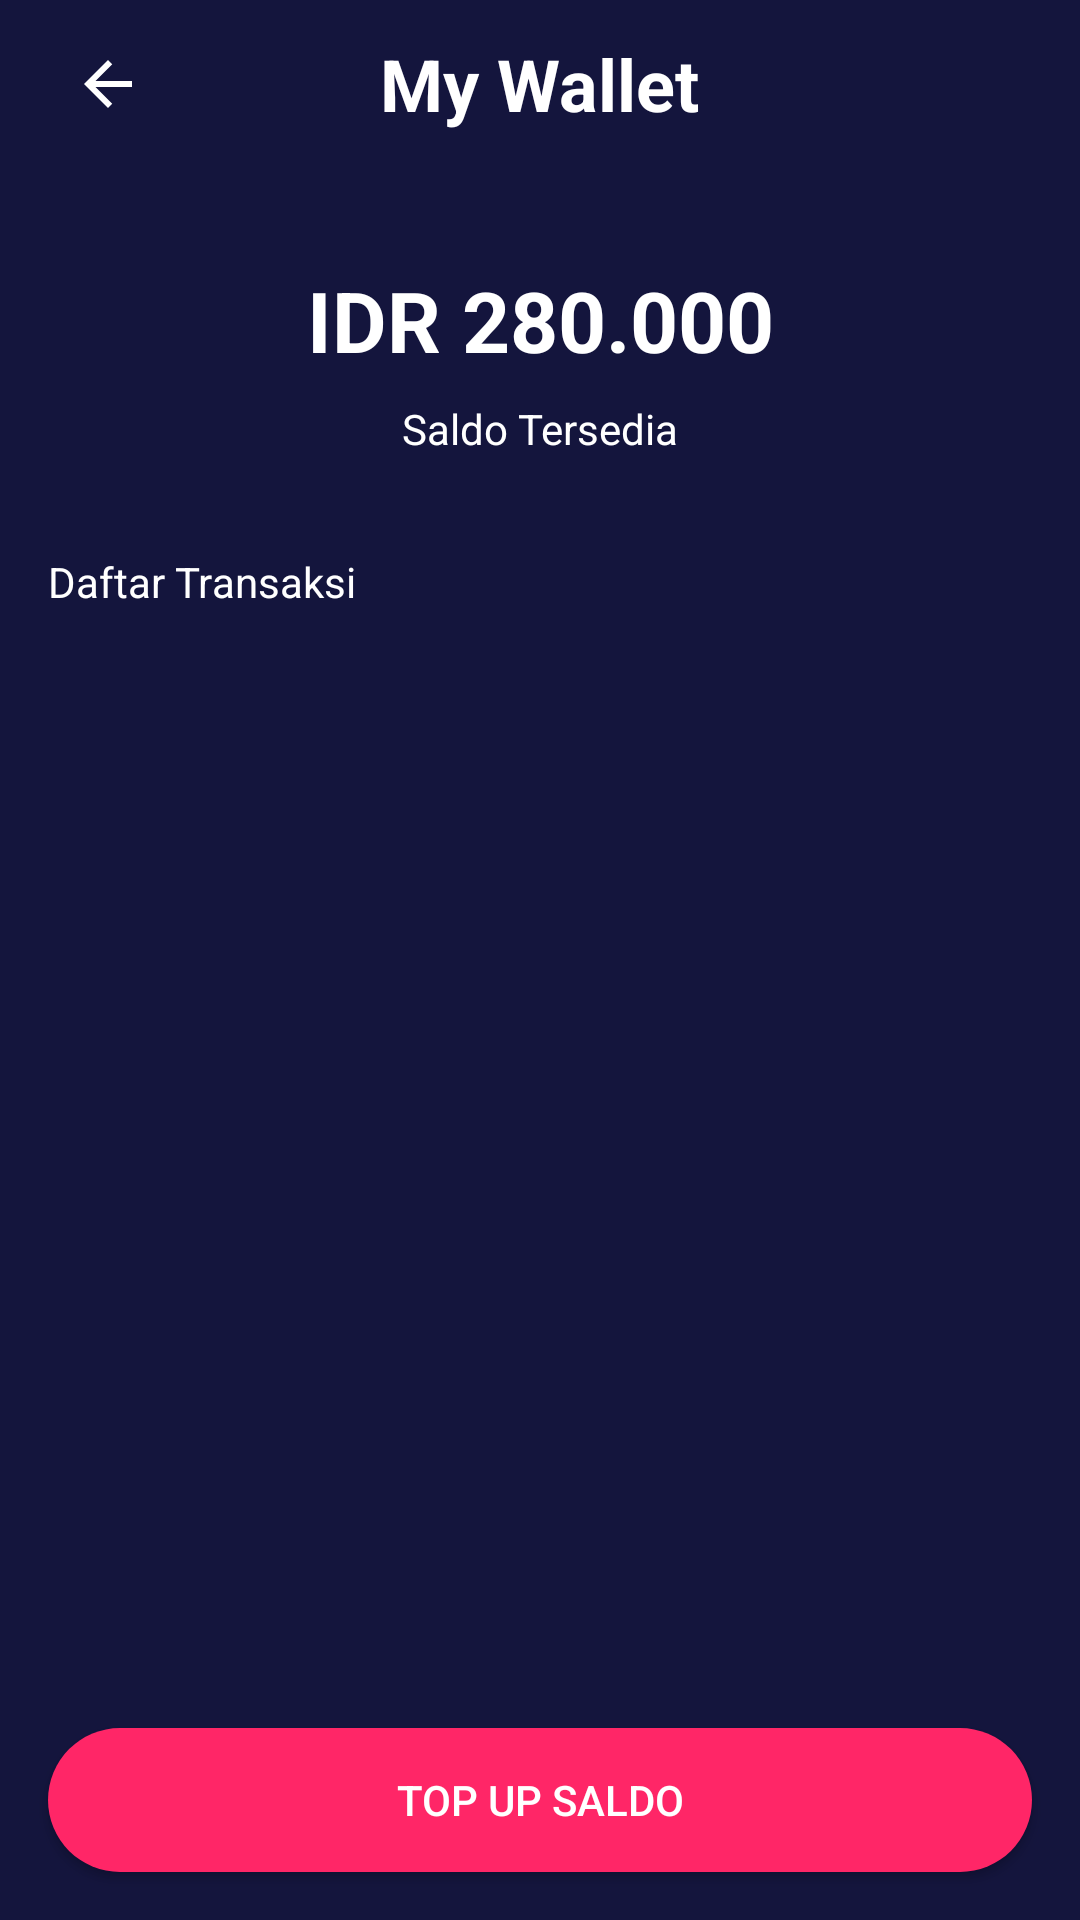

Named icons in this screenshot (1080 × 1920) and their bounding boxes, (x1, y1, x2, y2):
arrow left: (84, 60, 132, 108)
